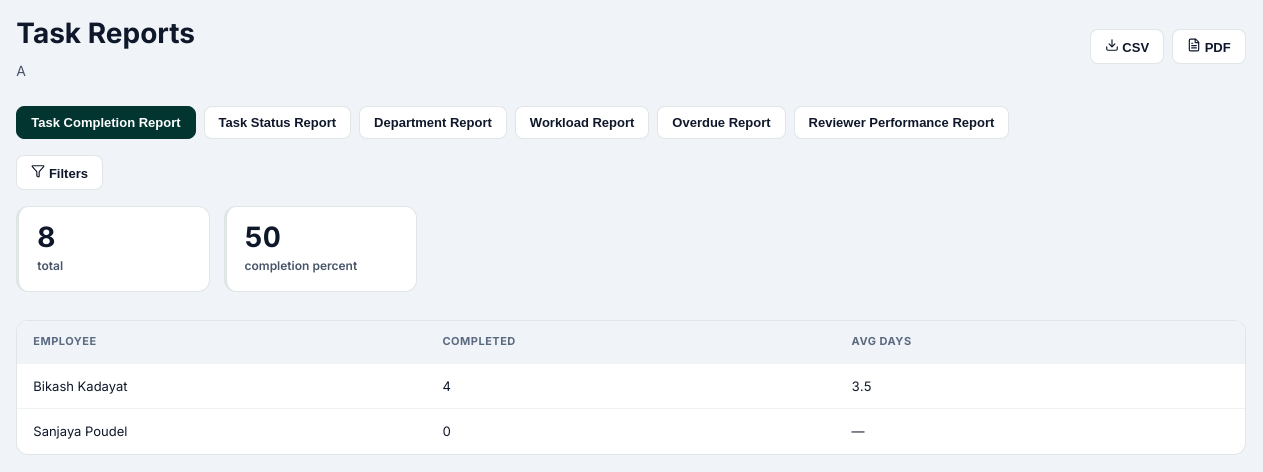
Test: reports › reports a refused export in place instead of navigating away
Click the button "CSV" at [1127, 47], box [1090, 29, 1164, 64]
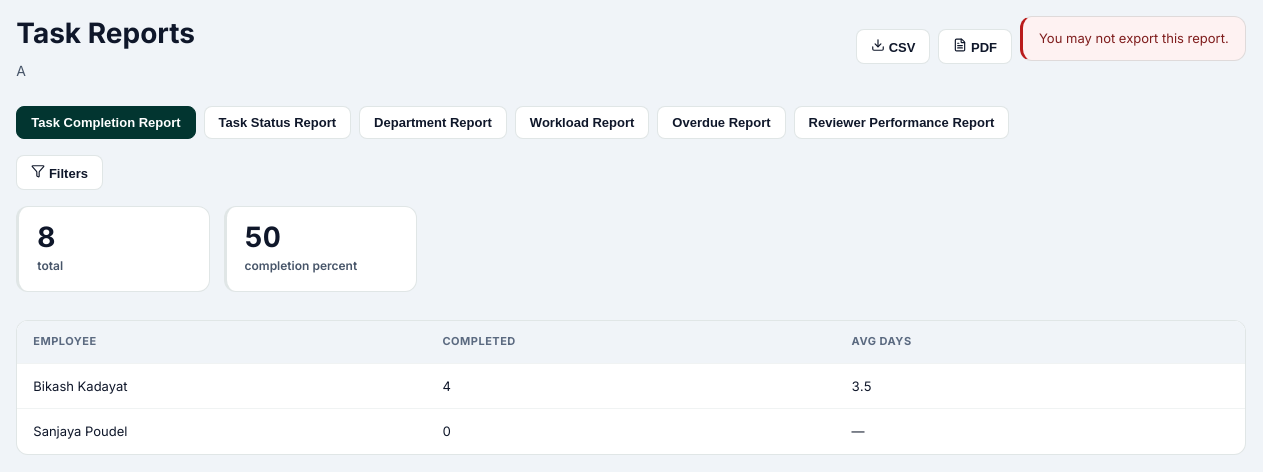
Expected: the message reads "You may not export this report.", [1039, 30, 1229, 46]
